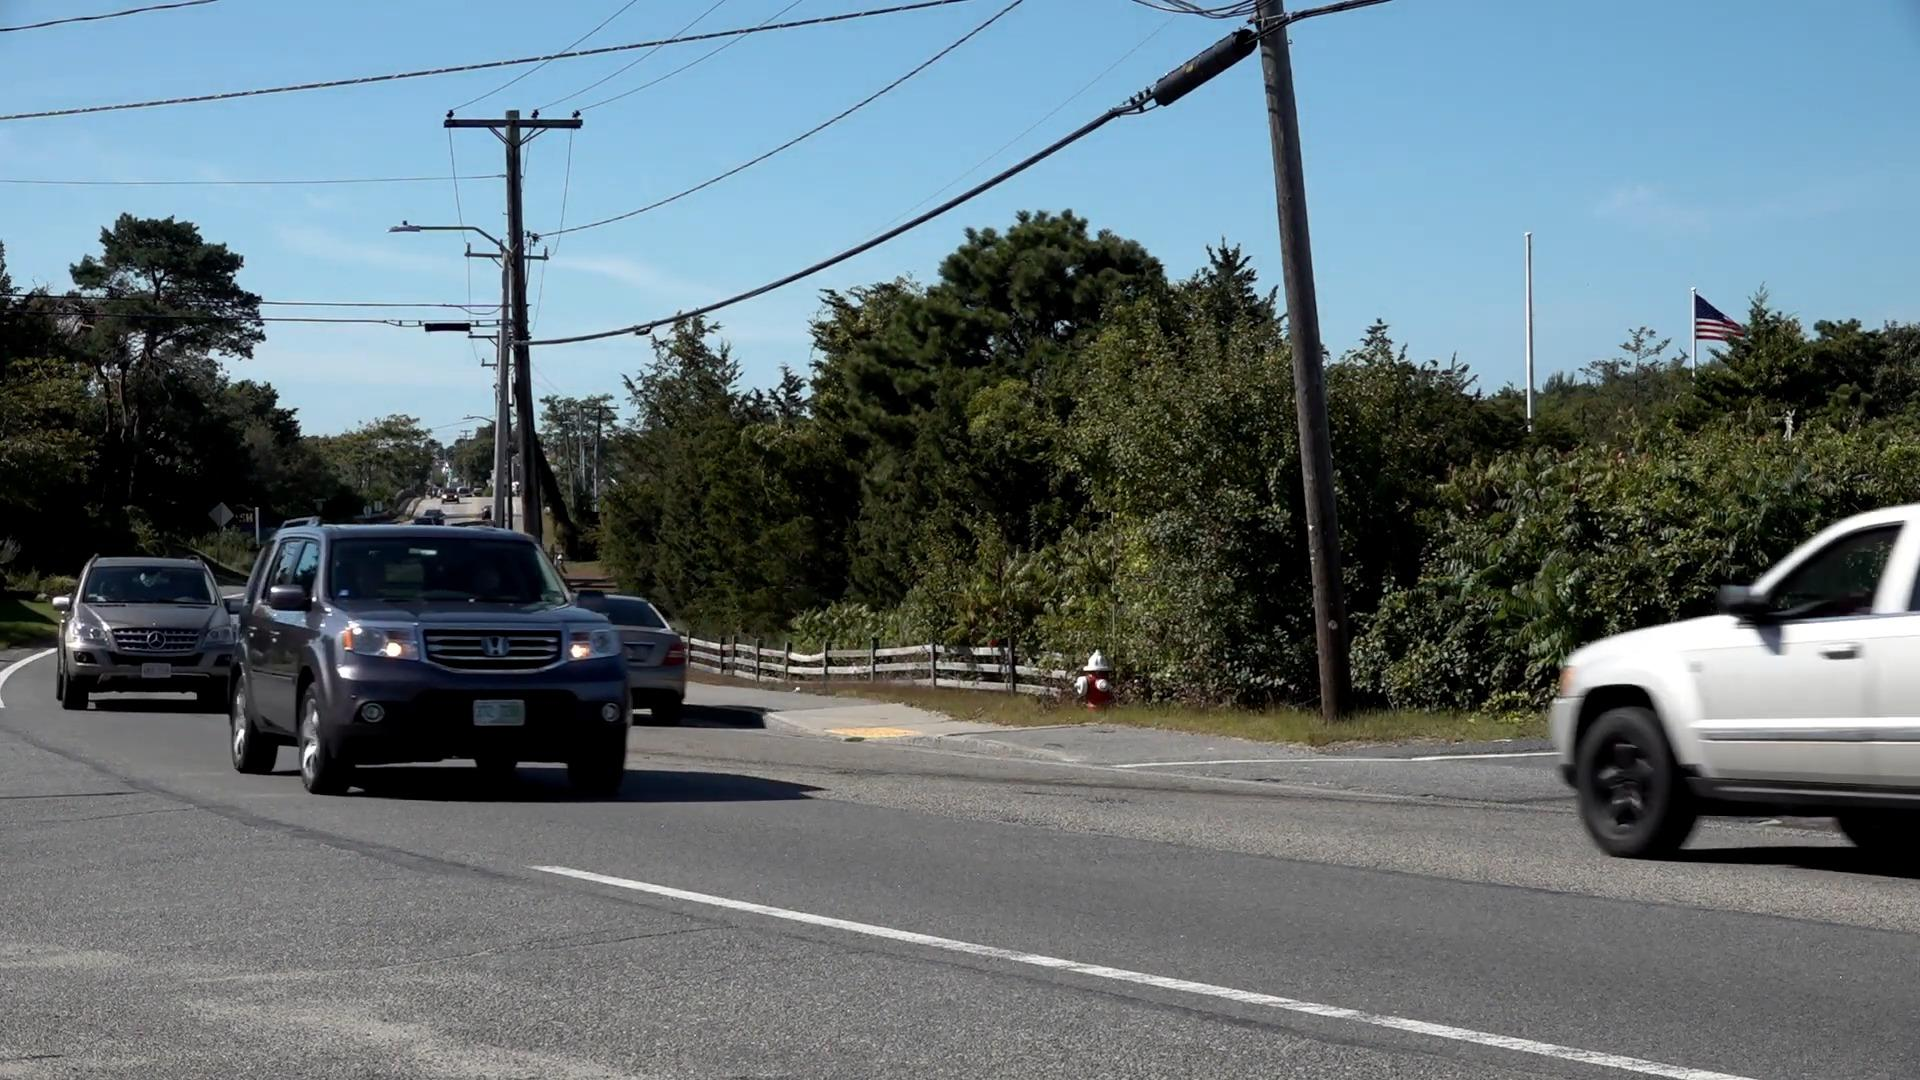suv: (1547, 501, 1920, 869), (244, 524, 632, 800), (53, 555, 235, 723)
